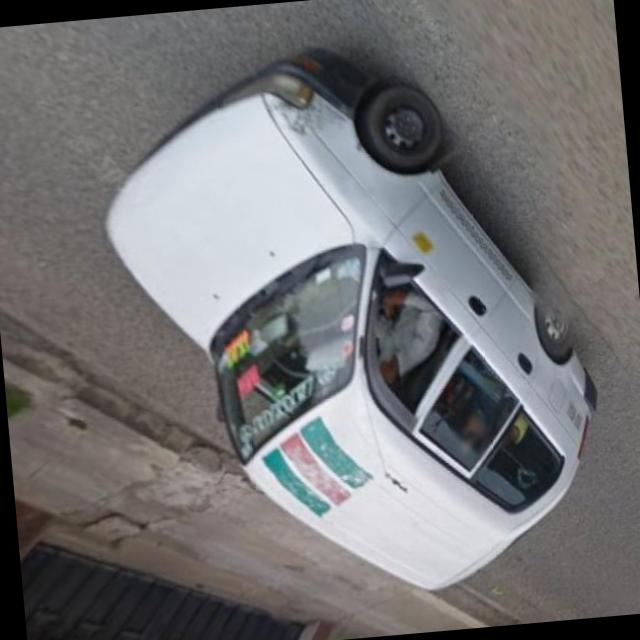car: (97, 32, 617, 608)
